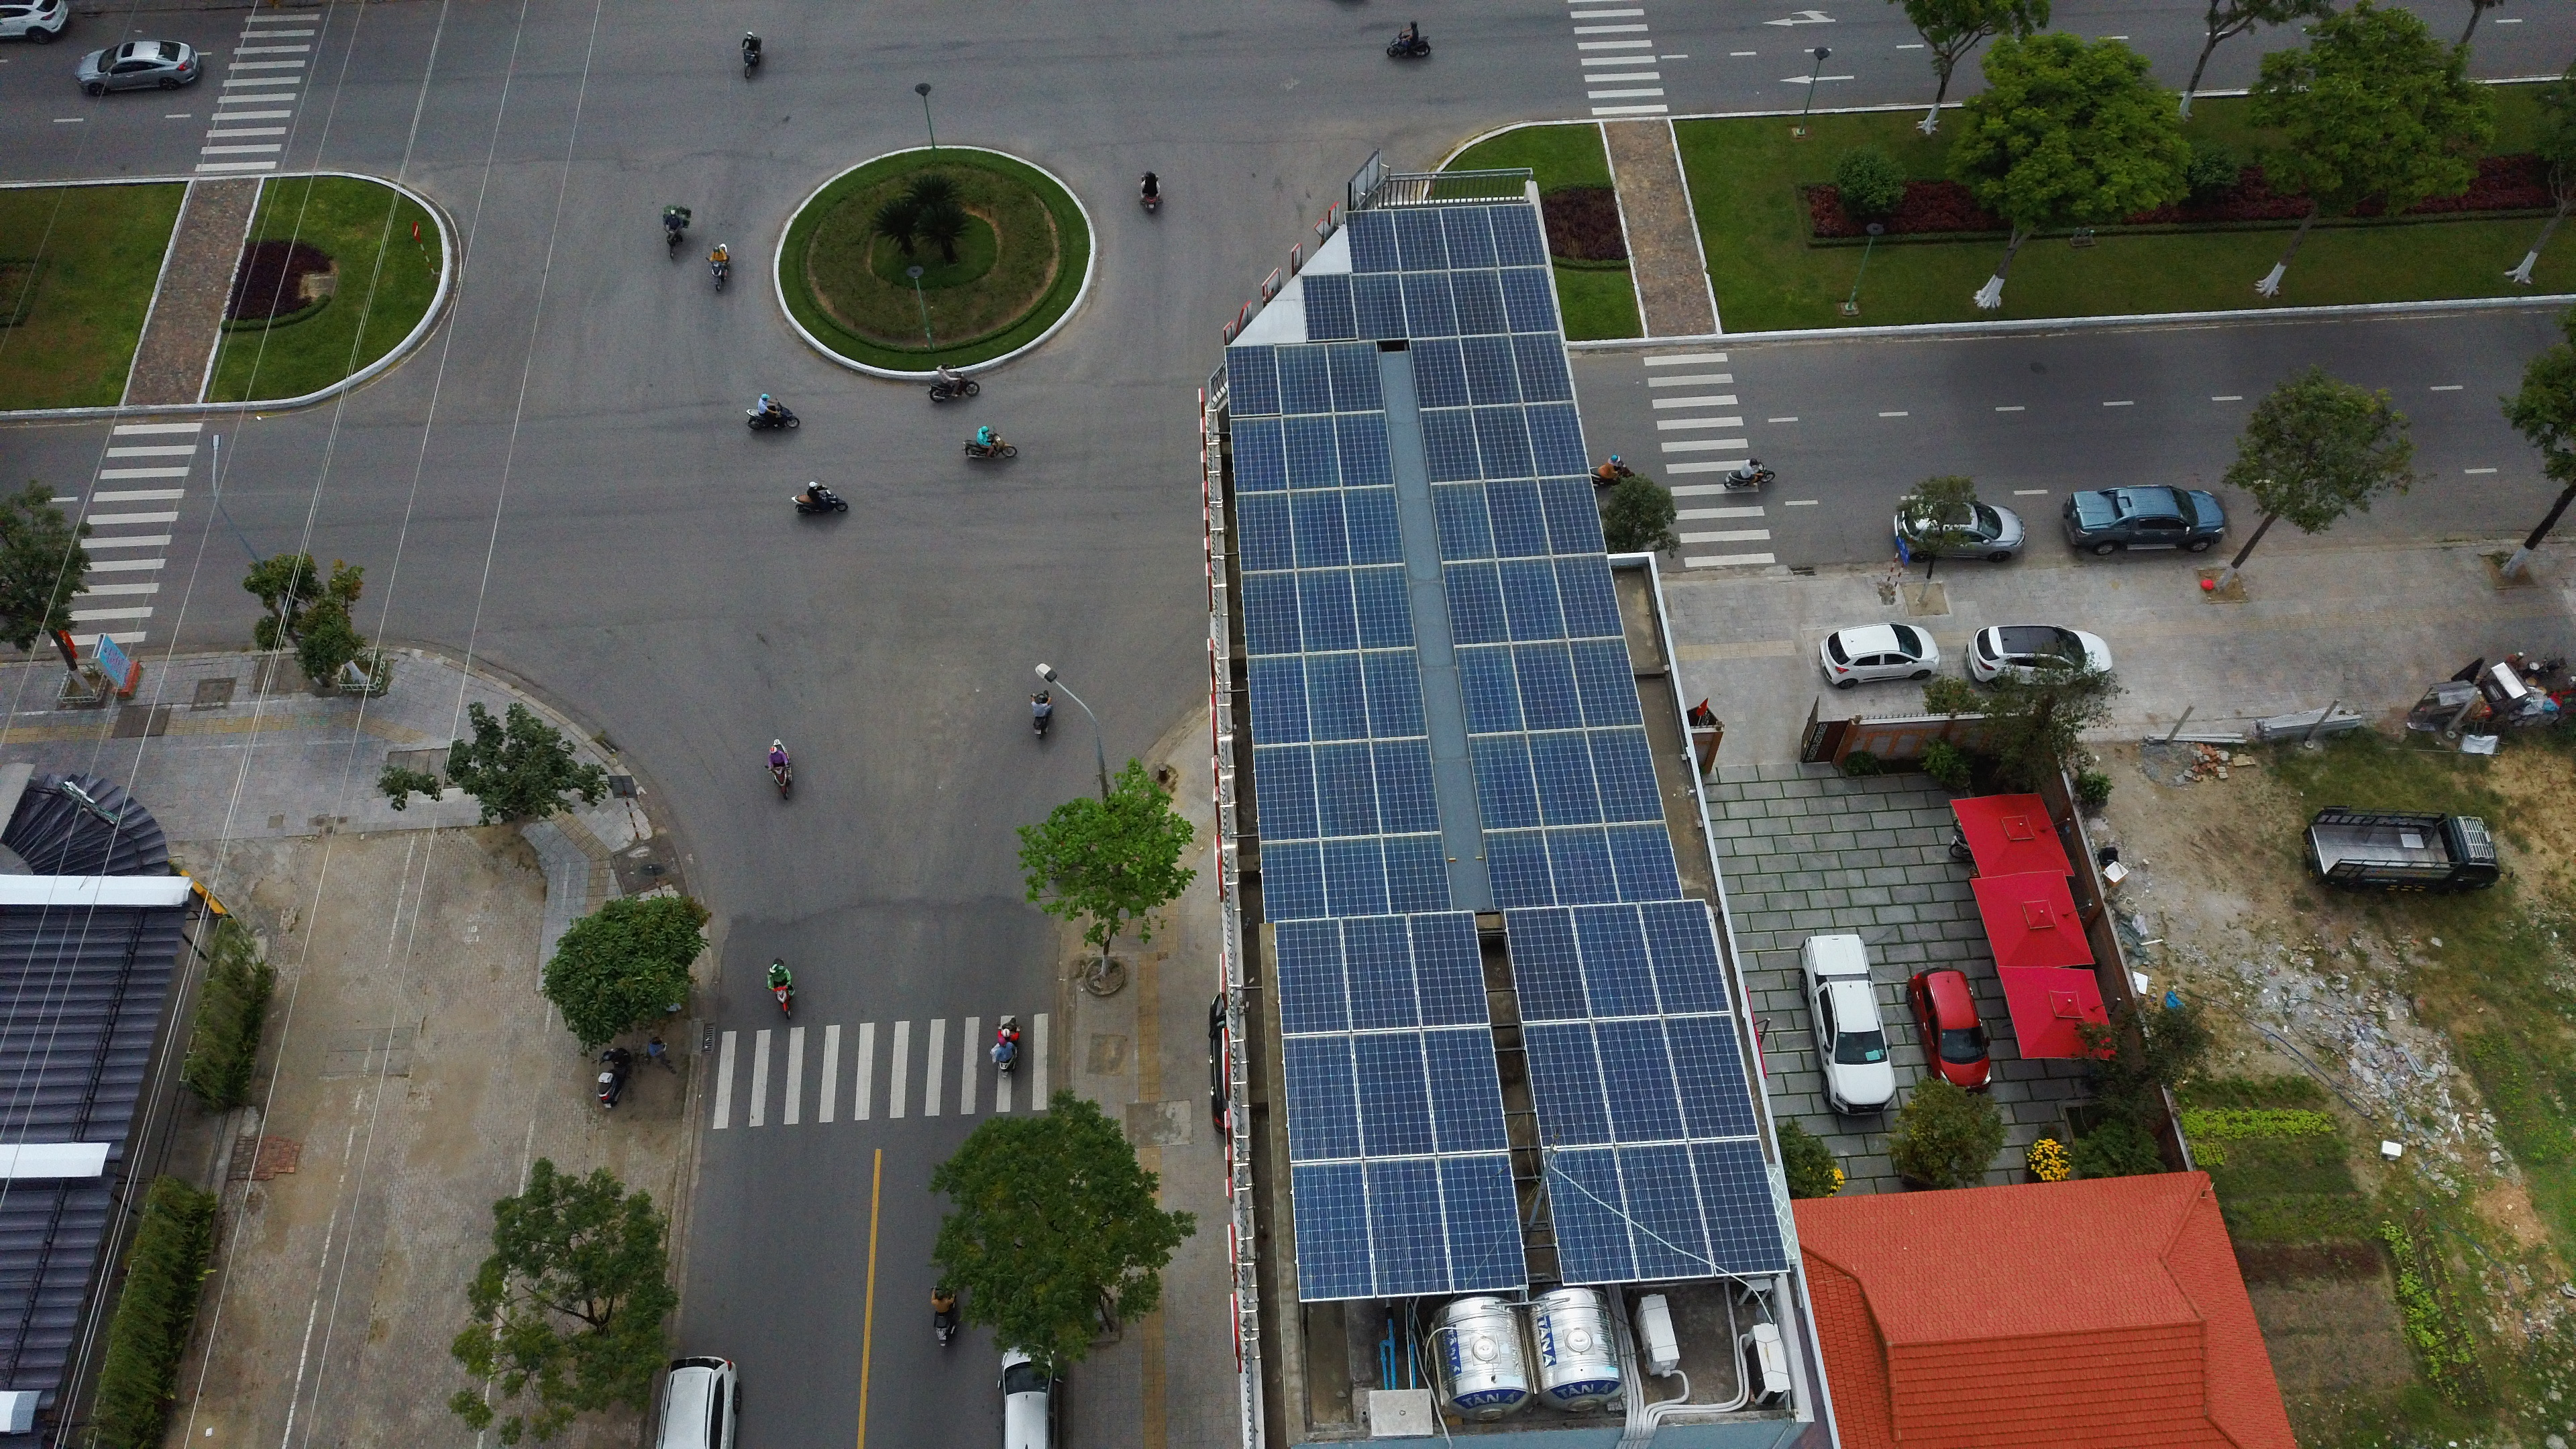solar: (1688, 1138, 1790, 1277), (1615, 1141, 1714, 1279), (1541, 1146, 1638, 1284), (1284, 1161, 1376, 1302), (1364, 1157, 1456, 1297), (1437, 1154, 1529, 1293), (1592, 1016, 1688, 1146), (1663, 1014, 1759, 1143), (1522, 1021, 1617, 1148), (1350, 1030, 1438, 1159), (1421, 1026, 1509, 1155), (1638, 899, 1736, 1016), (1571, 902, 1663, 1021), (1502, 904, 1592, 1024), (1279, 1033, 1362, 1162), (1407, 909, 1491, 1026), (1339, 913, 1421, 1033), (1272, 916, 1353, 1035), (1583, 725, 1668, 826), (1525, 727, 1606, 828), (1465, 731, 1545, 830), (1507, 639, 1587, 736), (1307, 740, 1384, 840), (1369, 736, 1445, 837), (1568, 635, 1645, 731), (1454, 640, 1529, 736), (1253, 743, 1323, 842), (1302, 649, 1375, 745), (1359, 648, 1430, 743), (1550, 552, 1626, 640), (1440, 557, 1511, 651), (1481, 826, 1559, 911), (1543, 823, 1621, 908), (1497, 556, 1568, 648), (1605, 821, 1683, 904), (1244, 653, 1313, 747), (1520, 398, 1594, 483), (1350, 561, 1417, 653), (1481, 476, 1553, 561), (1293, 564, 1361, 655), (1318, 835, 1392, 916), (1380, 833, 1454, 915), (1258, 839, 1330, 922), (1536, 474, 1606, 559), (1468, 398, 1537, 485), (1430, 478, 1499, 564), (1238, 570, 1306, 658), (1338, 483, 1407, 568), (1284, 487, 1352, 571), (1419, 403, 1484, 487), (1233, 488, 1299, 571), (1332, 409, 1398, 490), (1281, 410, 1345, 492), (1509, 329, 1576, 405), (1228, 414, 1290, 494), (1407, 336, 1470, 412), (1460, 333, 1523, 409), (1323, 338, 1385, 414), (1274, 338, 1334, 416), (1497, 264, 1560, 336), (1223, 343, 1283, 419), (1447, 267, 1511, 338), (1484, 202, 1548, 271), (1350, 271, 1412, 341), (1398, 269, 1460, 340), (1299, 272, 1361, 341), (1438, 203, 1499, 272), (1391, 207, 1451, 274), (1343, 209, 1401, 276)
